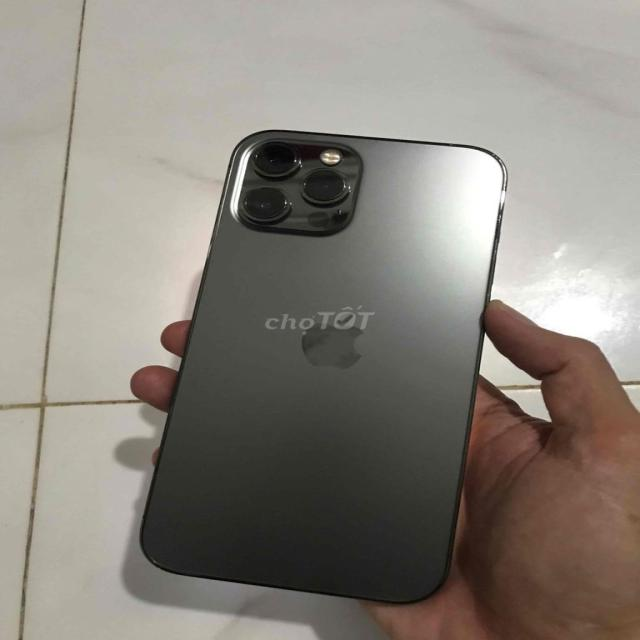gen_12_13: (135, 123, 519, 611)
